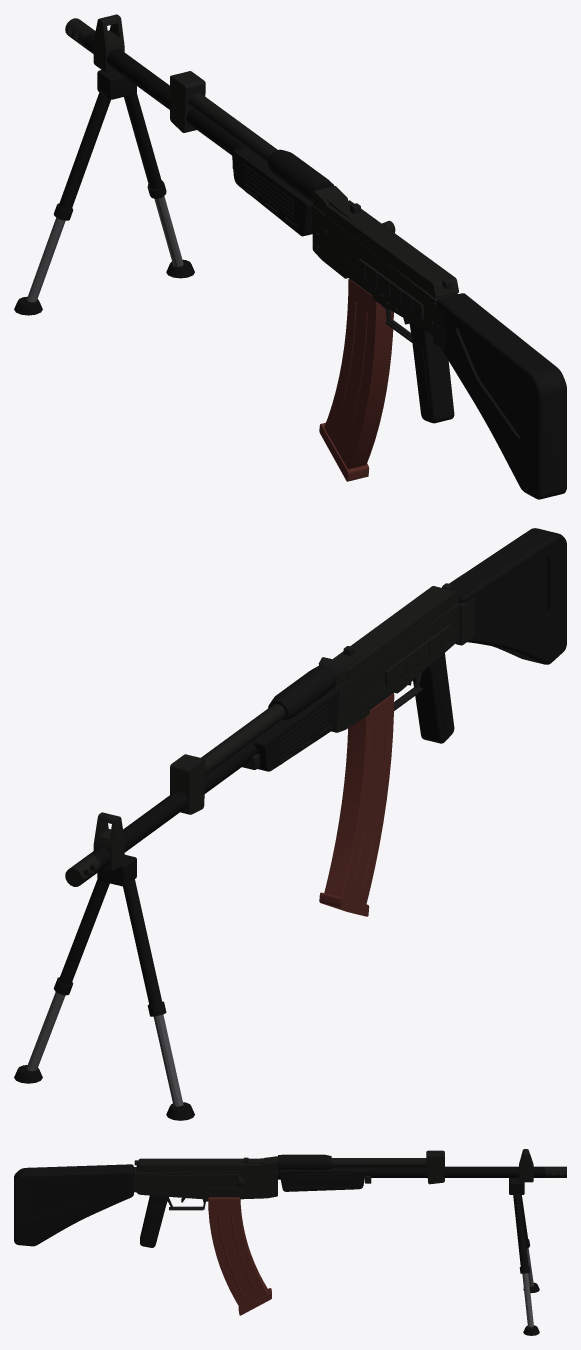
Rendered from weapon_rpk74m.glb.
3 views of the same model, one above another, from view 1: azimuth 30°, elevation 25°; view 2: azimuth 150°, elevation 25°; view 3: azimuth 270°, elevation 25° (orthographic). The views are drawn at different scales.
Visible parts, largest first — view 1: weapon_rpk74m_LOD0, weapon_rpk74m_Stock_LOD0, weapon_rpk74m_Mag_LOD0, weapon_rpk74m_Bipod_LOD0; view 2: weapon_rpk74m_LOD0, weapon_rpk74m_Stock_LOD0, weapon_rpk74m_Mag_LOD0, weapon_rpk74m_Bipod_LOD0; view 3: weapon_rpk74m_LOD0, weapon_rpk74m_Stock_LOD0, weapon_rpk74m_Mag_LOD0, weapon_rpk74m_Bipod_LOD0, weapon_rpk74m_Bolt_LOD0.
Part boxes in pixels (x1,y1,x2,y2): weapon_rpk74m_LOD0: [65, 14, 458, 423]; weapon_rpk74m_Stock_LOD0: [433, 293, 566, 499]; weapon_rpk74m_Mag_LOD0: [319, 278, 393, 481]; weapon_rpk74m_Bipod_LOD0: [14, 70, 194, 315]; weapon_rpk74m_LOD0: [65, 583, 461, 886]; weapon_rpk74m_Stock_LOD0: [449, 528, 566, 664]; weapon_rpk74m_Mag_LOD0: [319, 693, 394, 916]; weapon_rpk74m_Bipod_LOD0: [14, 854, 194, 1120]; weapon_rpk74m_LOD0: [134, 1149, 566, 1247]; weapon_rpk74m_Stock_LOD0: [14, 1164, 135, 1246]; weapon_rpk74m_Mag_LOD0: [208, 1197, 271, 1315]; weapon_rpk74m_Bipod_LOD0: [509, 1178, 539, 1335]; weapon_rpk74m_Bolt_LOD0: [194, 1174, 245, 1186].
Size of what is drawn, in the model's own units: 0.226 by 0.3412 by 1.06.
